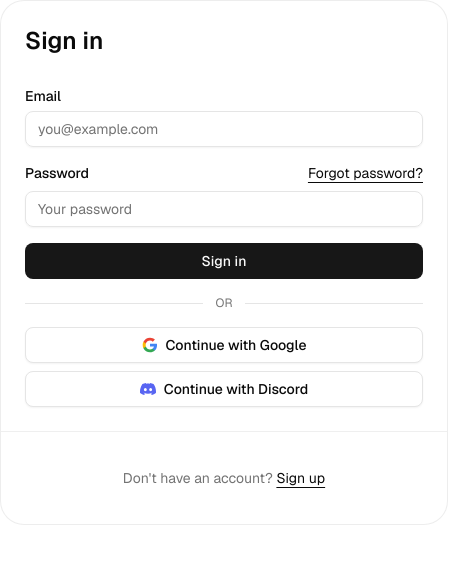
Test: SignInPage › validates form fields before submitting
Type "valid@example.com" into the field labelled "Email" at (224, 129), box [25,111,423,147]
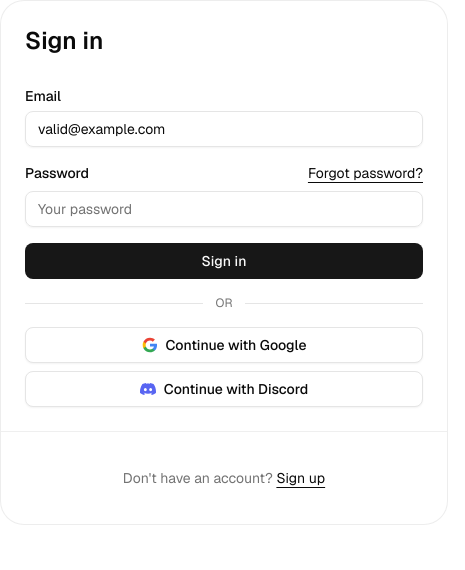
Submit the form "Email Password Forgot password? Sign in", box [25,89,423,279]
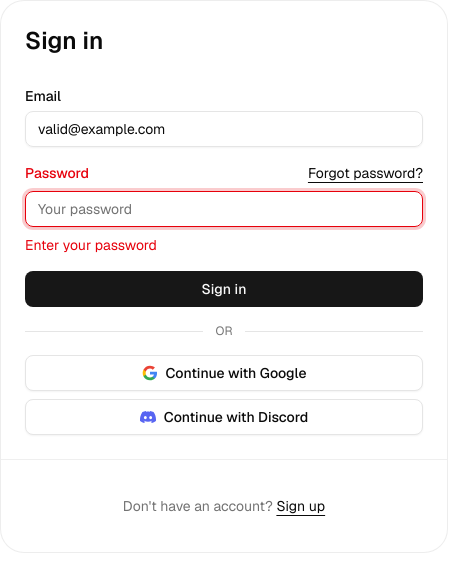
Expected: the text "Enter your password" is shown, [25,236,157,254]
